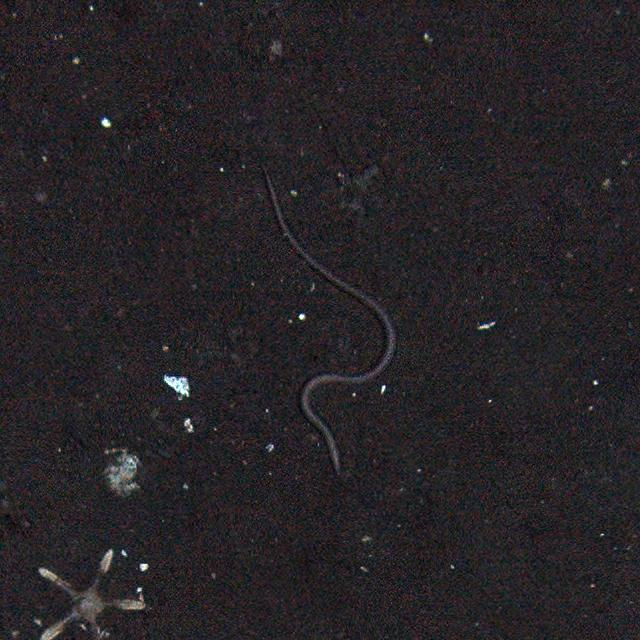eel: (260, 166, 398, 481)
